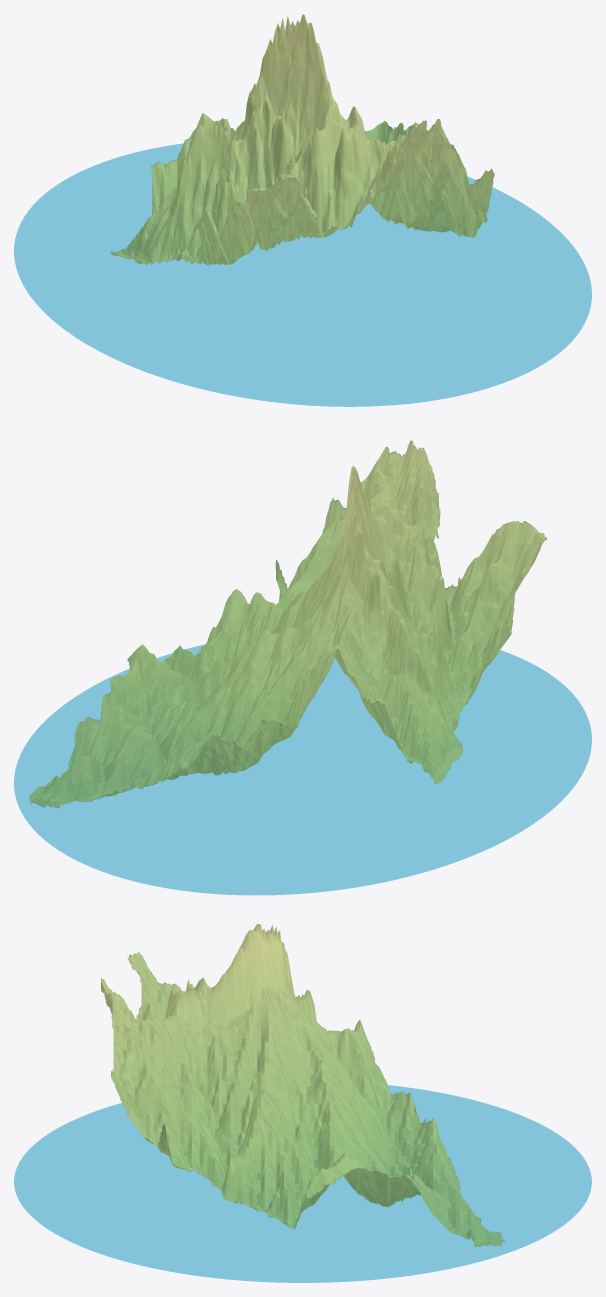
The model's file is SMR-terrain.glb.
The picture shows the model from 3 angles, top to bottom: view 1: azimuth 30°, elevation 25°; view 2: azimuth 150°, elevation 25°; view 3: azimuth 270°, elevation 25°; orthographic projection. The views are drawn at different scales.
Parts seen in each view (by area): view 1: Relevo com hidrografia; view 2: Relevo com hidrografia; view 3: Relevo com hidrografia.
Part boxes in pixels (x1,y1,x2,y2): Relevo com hidrografia: (14,14,591,406); Relevo com hidrografia: (14,440,591,895); Relevo com hidrografia: (14,924,591,1282).
Bounding box in the file's own units: 1.9 × 1.08 × 2.29.
2 materials, 1 textured.
